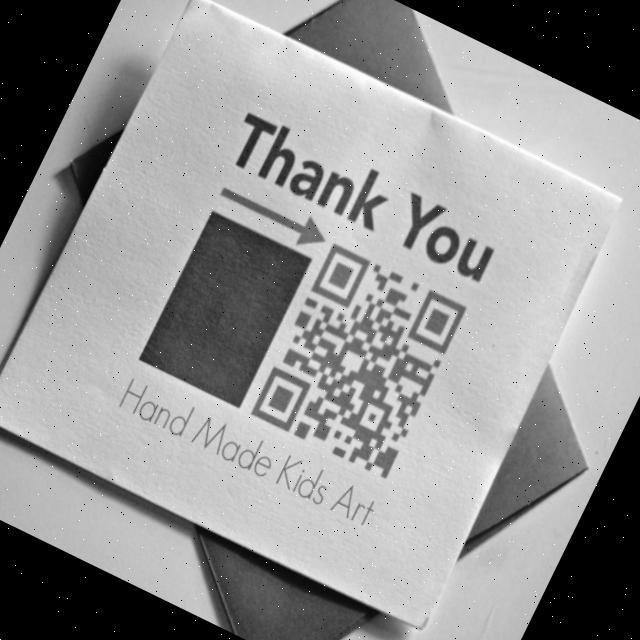QR-codes: (248, 238, 470, 481)
